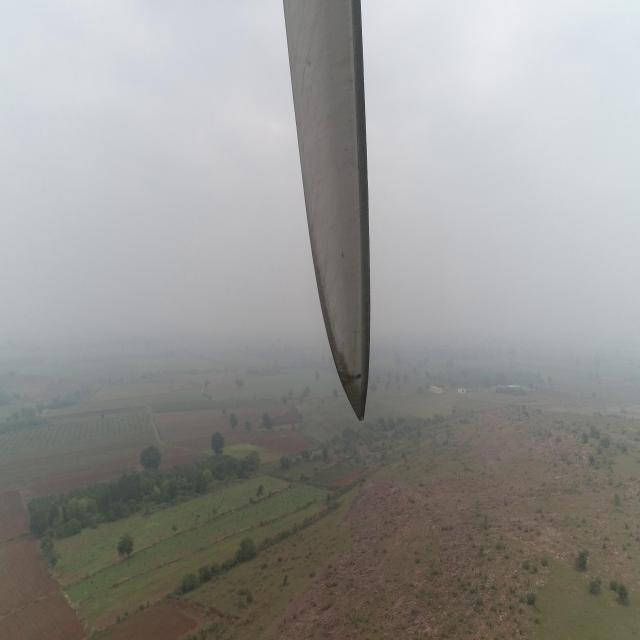Dirt: (307, 219, 371, 422)
Pin Hole: (339, 372, 364, 386)
